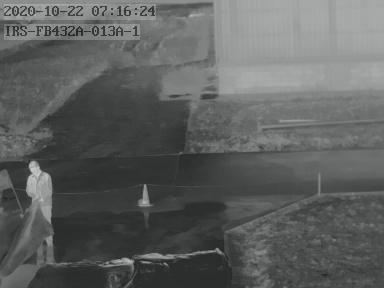person: (24, 160, 57, 261)
